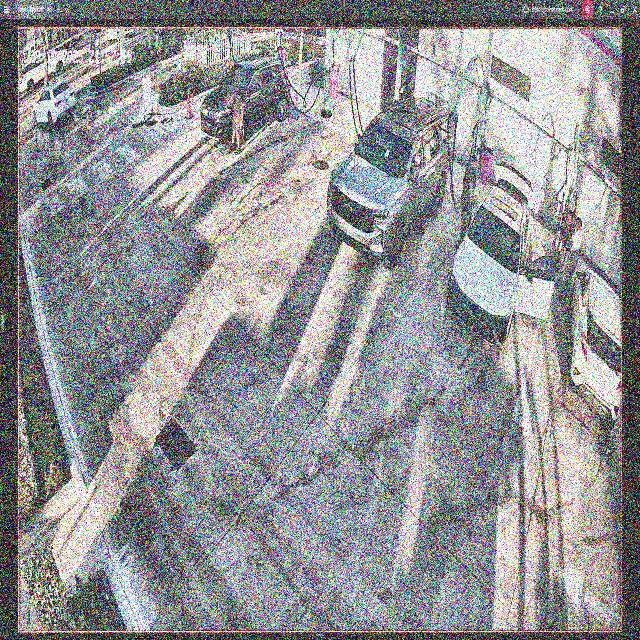Car: (326, 98, 451, 261), (450, 161, 555, 354), (201, 54, 289, 152)
